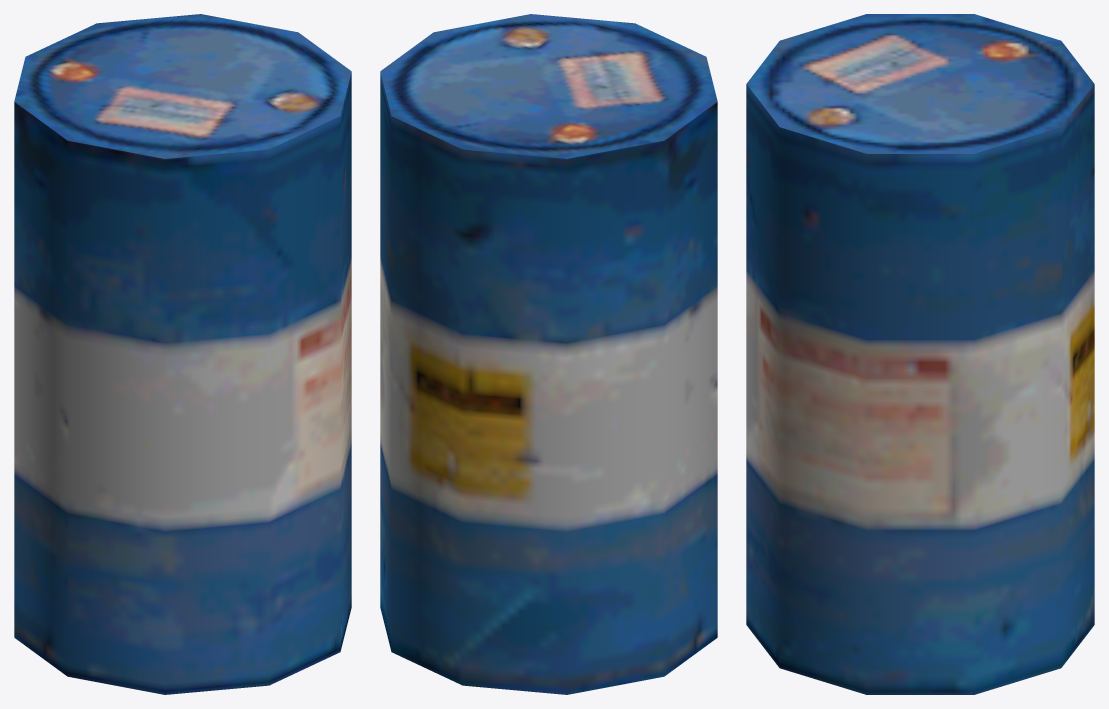
File: Barrel.fbx
3 views of the same model, side by side, from view 1: azimuth 30°, elevation 25°; view 2: azimuth 150°, elevation 25°; view 3: azimuth 270°, elevation 25° (orthographic).
Parts seen in each view (by area): view 1: Barrel_1; view 2: Barrel_1; view 3: Barrel_1.
Part boxes in pixels (bbox=[...]): Barrel_1: bbox=[14, 14, 351, 694]; Barrel_1: bbox=[380, 14, 717, 694]; Barrel_1: bbox=[746, 14, 1094, 694].
Bounding box in the file's own units: 52.97 × 95.47 × 55.69.
